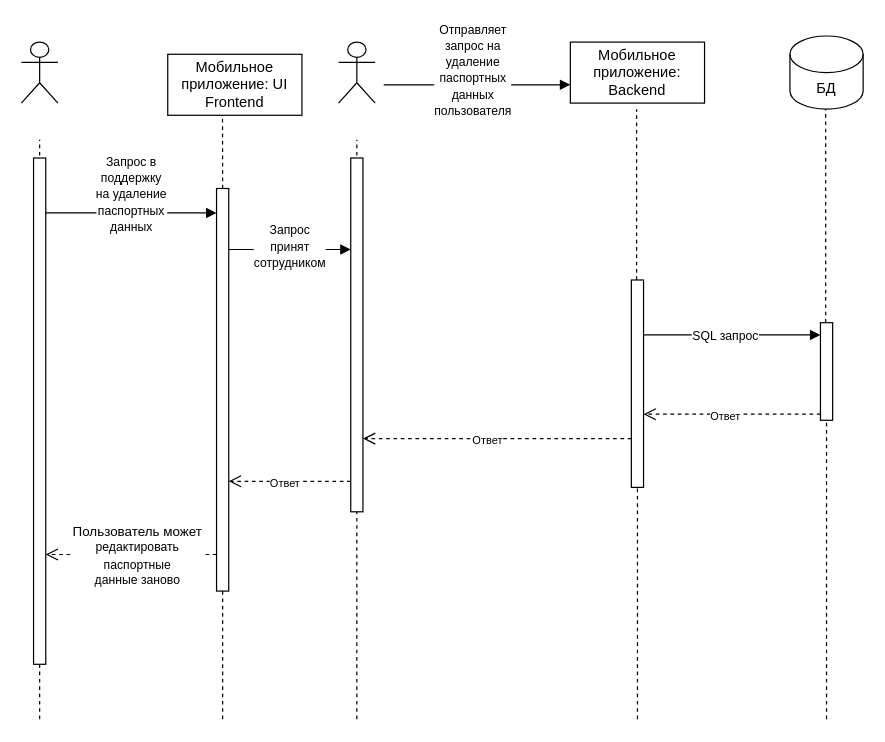
Image size: 885x742. Some labels were removed from this diagram. Each missing label, with the centre of its shape:
Admin: the point at 356,72
User: the point at 39,72
